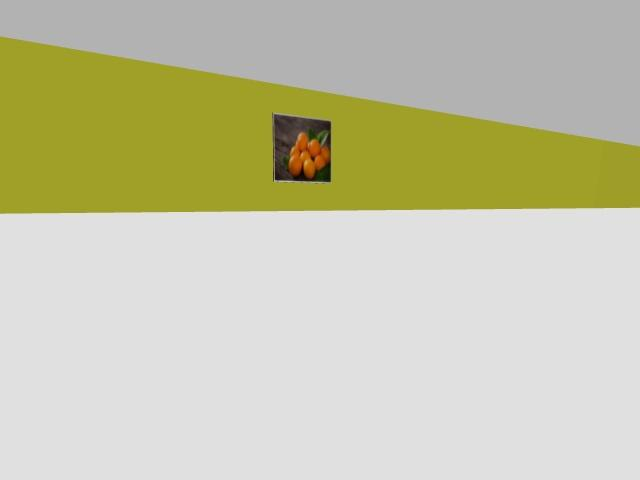orange: (288, 155, 302, 177), (303, 159, 315, 179), (296, 132, 308, 152), (308, 139, 320, 158), (314, 154, 326, 170), (320, 146, 330, 162), (300, 150, 312, 163), (290, 145, 299, 156)
